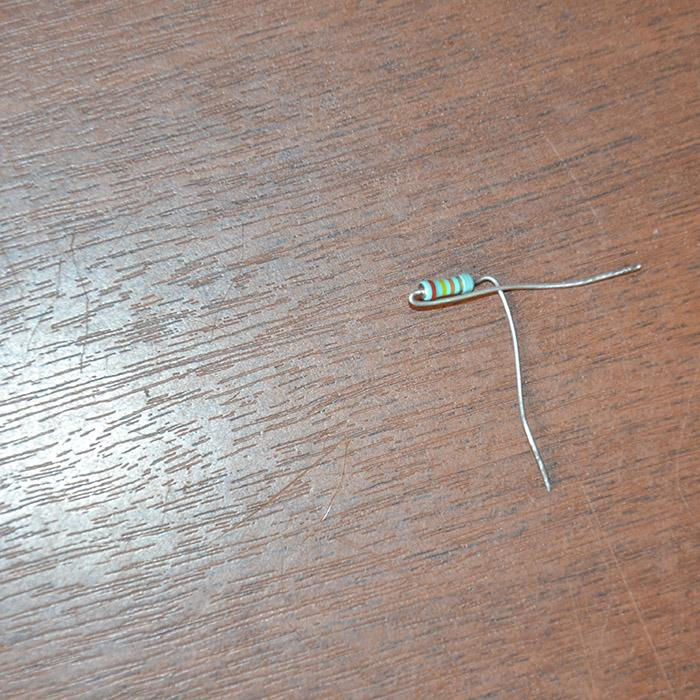resistor: (416, 273, 474, 301)
